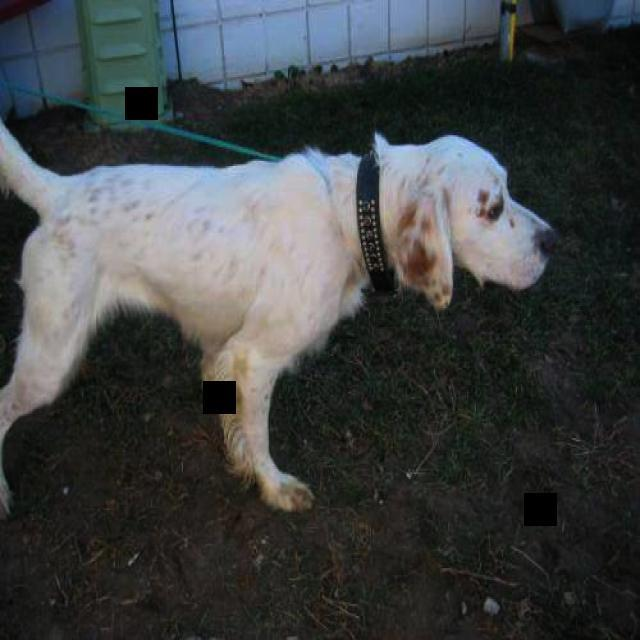adult_dog: (0, 118, 560, 522)
